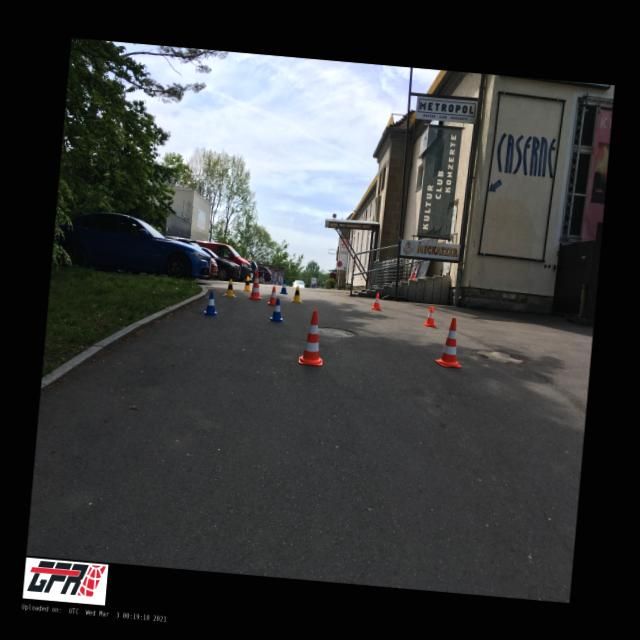blue_cone: (203, 290, 219, 316), (268, 298, 284, 322), (280, 279, 288, 294)
large_orange_cone: (298, 310, 326, 366), (435, 316, 465, 368), (247, 270, 265, 300)
orange_cone: (423, 306, 438, 326), (266, 286, 278, 306), (371, 292, 382, 310)
yellow_cone: (222, 278, 238, 298), (290, 285, 304, 303), (242, 276, 252, 292)
